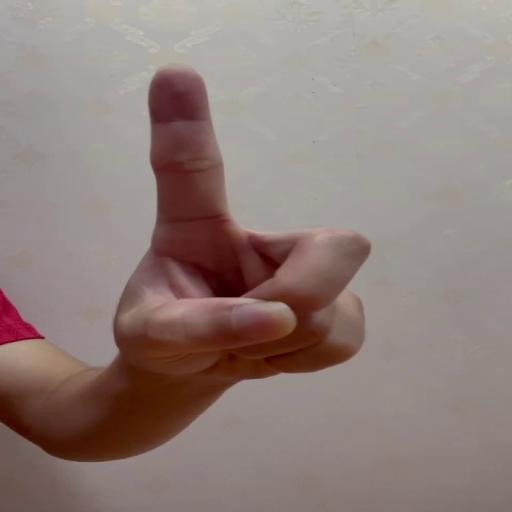point: (135, 61, 376, 380)
